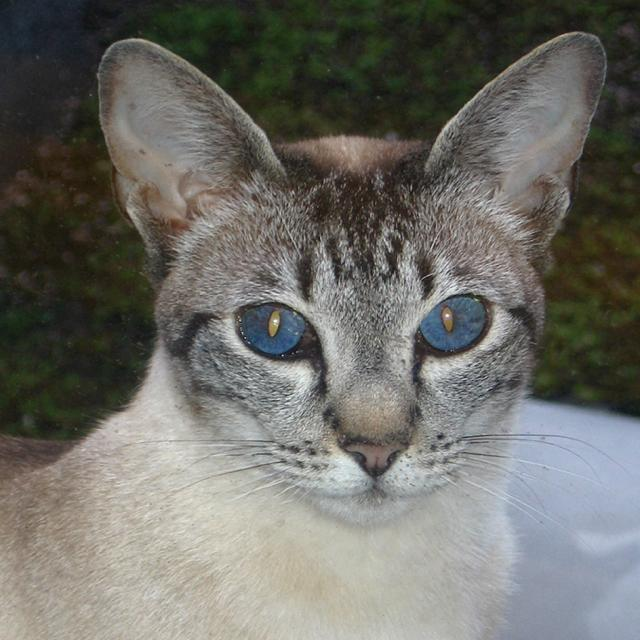Cat: (0, 31, 637, 640)
